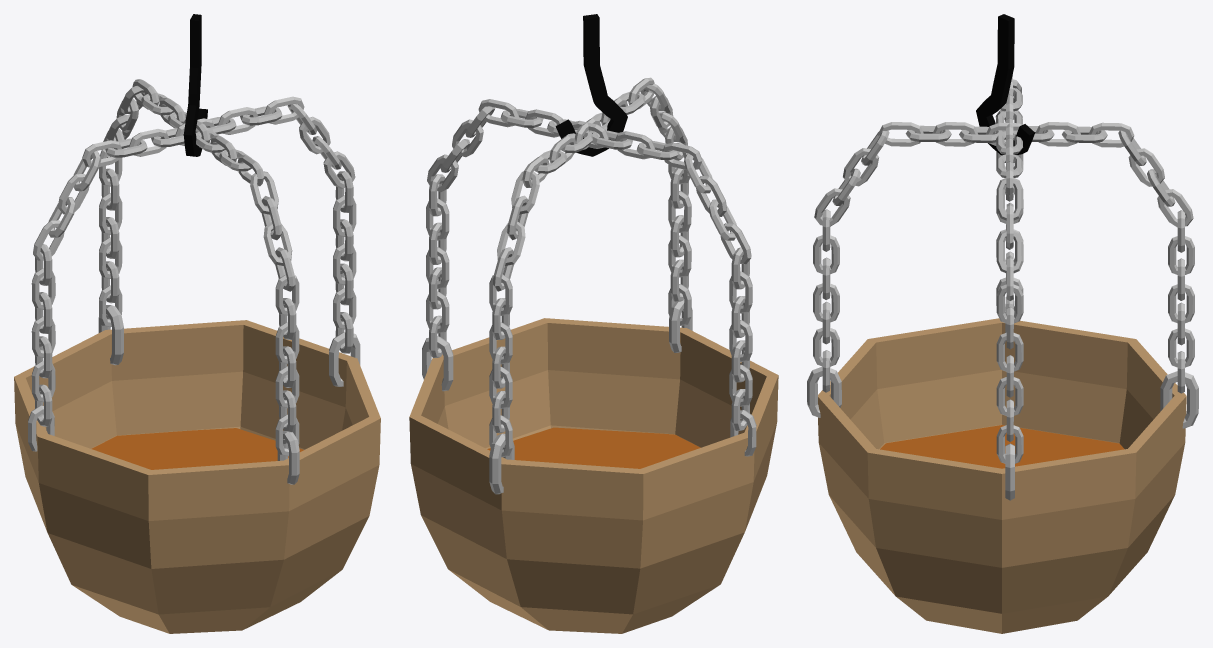
The model's file is FlowerHangingBasket.fbx.
3 renders of one model, left to right at view 1: azimuth 30°, elevation 25°; view 2: azimuth 150°, elevation 25°; view 3: azimuth 270°, elevation 25°, orthographic.
Parts seen in each view (by area): view 1: FlowHangingBasket; view 2: FlowHangingBasket; view 3: FlowHangingBasket.
Boxes of the visible parts, left/top/right/bottom form: FlowHangingBasket: left=14, top=14, right=380, bottom=633; FlowHangingBasket: left=409, top=14, right=778, bottom=633; FlowHangingBasket: left=807, top=14, right=1198, bottom=633.
Size of the model in its own units: 196 by 334 by 200.
